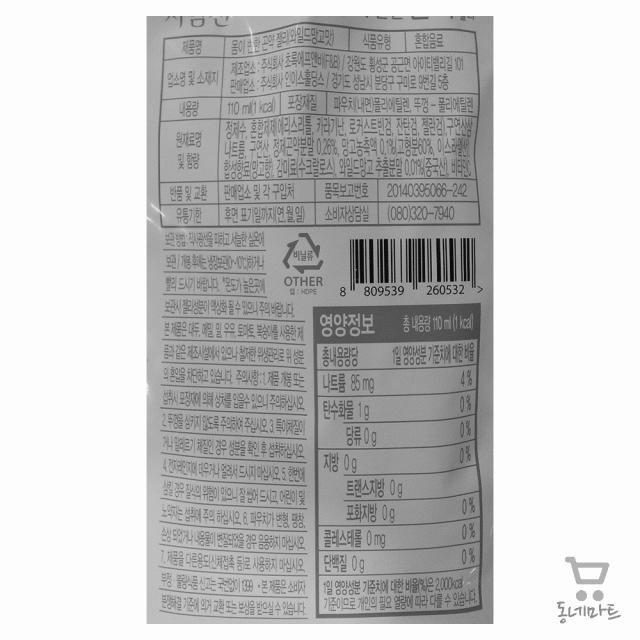Nutrition Label: (308, 304, 487, 632)
